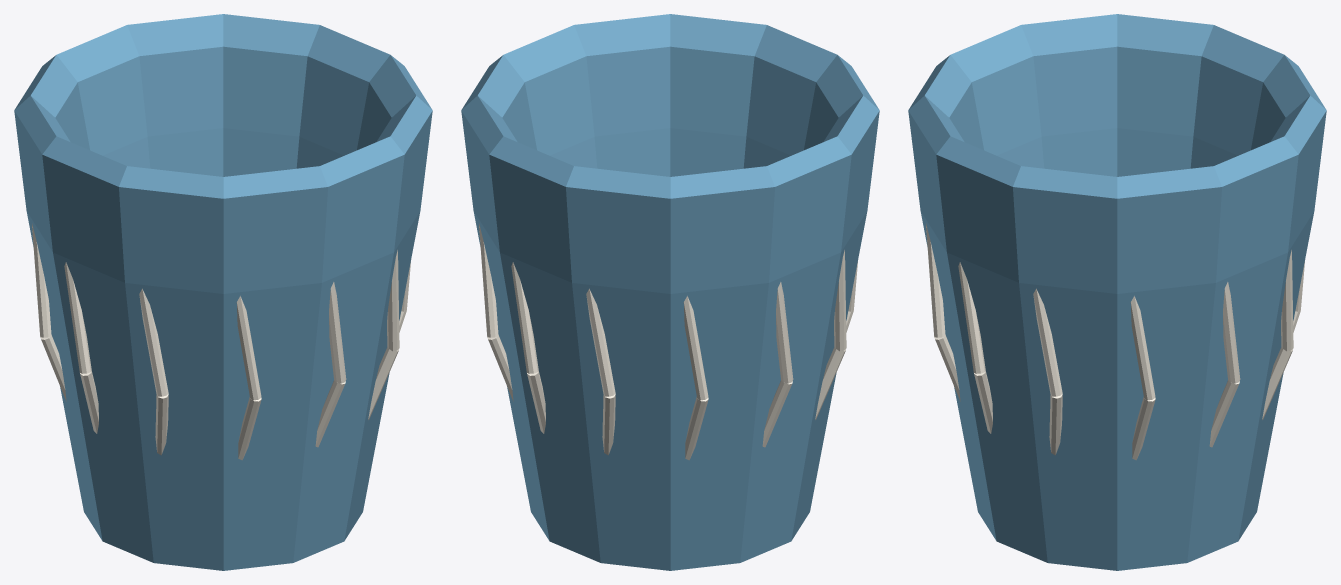
File: craft_kiriko.glb
3 views of the same model, side by side, from view 1: azimuth 30°, elevation 25°; view 2: azimuth 150°, elevation 25°; view 3: azimuth 270°, elevation 25° (orthographic).
Visible parts, largest first — view 1: Twelve-facet kiriko glass body, Kiriko etched V-cut ridge_01.007, Kiriko etched V-cut ridge_01.006, Kiriko etched V-cut ridge_01.008, Kiriko etched V-cut ridge_01.009, Kiriko etched V-cut ridge_01.005, Kiriko etched V-cut ridge_01.010, Kiriko etched V-cut ridge_00.008, Kiriko etched V-cut ridge_00.009, Kiriko etched V-cut ridge_00.007, Kiriko etched V-cut ridge_00.010, Kiriko etched V-cut ridge_00.006 (+1 smaller); view 2: Twelve-facet kiriko glass body, Kiriko etched V-cut ridge_01.003, Kiriko etched V-cut ridge_01.002, Kiriko etched V-cut ridge_01.004, Kiriko etched V-cut ridge_01.005, Kiriko etched V-cut ridge_01.001, Kiriko etched V-cut ridge_01.006, Kiriko etched V-cut ridge_00.004, Kiriko etched V-cut ridge_00.005, Kiriko etched V-cut ridge_00.003, Kiriko etched V-cut ridge_00.006, Kiriko etched V-cut ridge_00.002 (+1 smaller); view 3: Twelve-facet kiriko glass body, Kiriko etched V-cut ridge_01.011, Kiriko etched V-cut ridge_01.010, Kiriko etched V-cut ridge_01, Kiriko etched V-cut ridge_01.001, Kiriko etched V-cut ridge_01.009, Kiriko etched V-cut ridge_01.002, Kiriko etched V-cut ridge_00, Kiriko etched V-cut ridge_00.001, Kiriko etched V-cut ridge_00.011, Kiriko etched V-cut ridge_00.002, Kiriko etched V-cut ridge_00.010 (+1 smaller).
Part boxes in pixels (<box>): Twelve-facet kiriko glass body: <box>14,14,432,570</box>; Kiriko etched V-cut ridge_01.007: <box>139,288,168,396</box>; Kiriko etched V-cut ridge_01.006: <box>64,262,91,373</box>; Kiriko etched V-cut ridge_01.008: <box>236,296,261,400</box>; Kiriko etched V-cut ridge_01.009: <box>329,282,346,383</box>; Kiriko etched V-cut ridge_01.005: <box>32,223,51,337</box>; Kiriko etched V-cut ridge_01.010: <box>387,250,399,351</box>; Kiriko etched V-cut ridge_00.008: <box>238,397,261,460</box>; Kiriko etched V-cut ridge_00.009: <box>315,380,345,447</box>; Kiriko etched V-cut ridge_00.007: <box>155,394,168,455</box>; Kiriko etched V-cut ridge_00.010: <box>368,347,398,419</box>; Kiriko etched V-cut ridge_00.006: <box>80,371,98,433</box>; Twelve-facet kiriko glass body: <box>461,14,879,570</box>; Kiriko etched V-cut ridge_01.003: <box>586,288,615,396</box>; Kiriko etched V-cut ridge_01.002: <box>511,262,538,373</box>; Kiriko etched V-cut ridge_01.004: <box>683,296,708,400</box>; Kiriko etched V-cut ridge_01.005: <box>776,282,793,383</box>; Kiriko etched V-cut ridge_01.001: <box>479,223,498,337</box>; Kiriko etched V-cut ridge_01.006: <box>834,250,846,351</box>; Kiriko etched V-cut ridge_00.004: <box>685,397,708,460</box>; Kiriko etched V-cut ridge_00.005: <box>762,380,792,447</box>; Kiriko etched V-cut ridge_00.003: <box>602,394,615,455</box>; Kiriko etched V-cut ridge_00.006: <box>815,347,845,419</box>; Kiriko etched V-cut ridge_00.002: <box>527,371,545,433</box>; Twelve-facet kiriko glass body: <box>908,14,1326,570</box>; Kiriko etched V-cut ridge_01.011: <box>1033,288,1062,396</box>; Kiriko etched V-cut ridge_01.010: <box>958,262,985,373</box>; Kiriko etched V-cut ridge_01: <box>1130,296,1155,400</box>; Kiriko etched V-cut ridge_01.001: <box>1223,282,1240,383</box>; Kiriko etched V-cut ridge_01.009: <box>926,223,945,337</box>; Kiriko etched V-cut ridge_01.002: <box>1281,250,1293,351</box>; Kiriko etched V-cut ridge_00: <box>1132,397,1155,460</box>; Kiriko etched V-cut ridge_00.001: <box>1209,380,1239,447</box>; Kiriko etched V-cut ridge_00.011: <box>1049,394,1062,455</box>; Kiriko etched V-cut ridge_00.002: <box>1262,347,1292,419</box>; Kiriko etched V-cut ridge_00.010: <box>974,371,992,433</box>.
Size of the model in its own units: 1.76 by 1.95 by 1.76.
